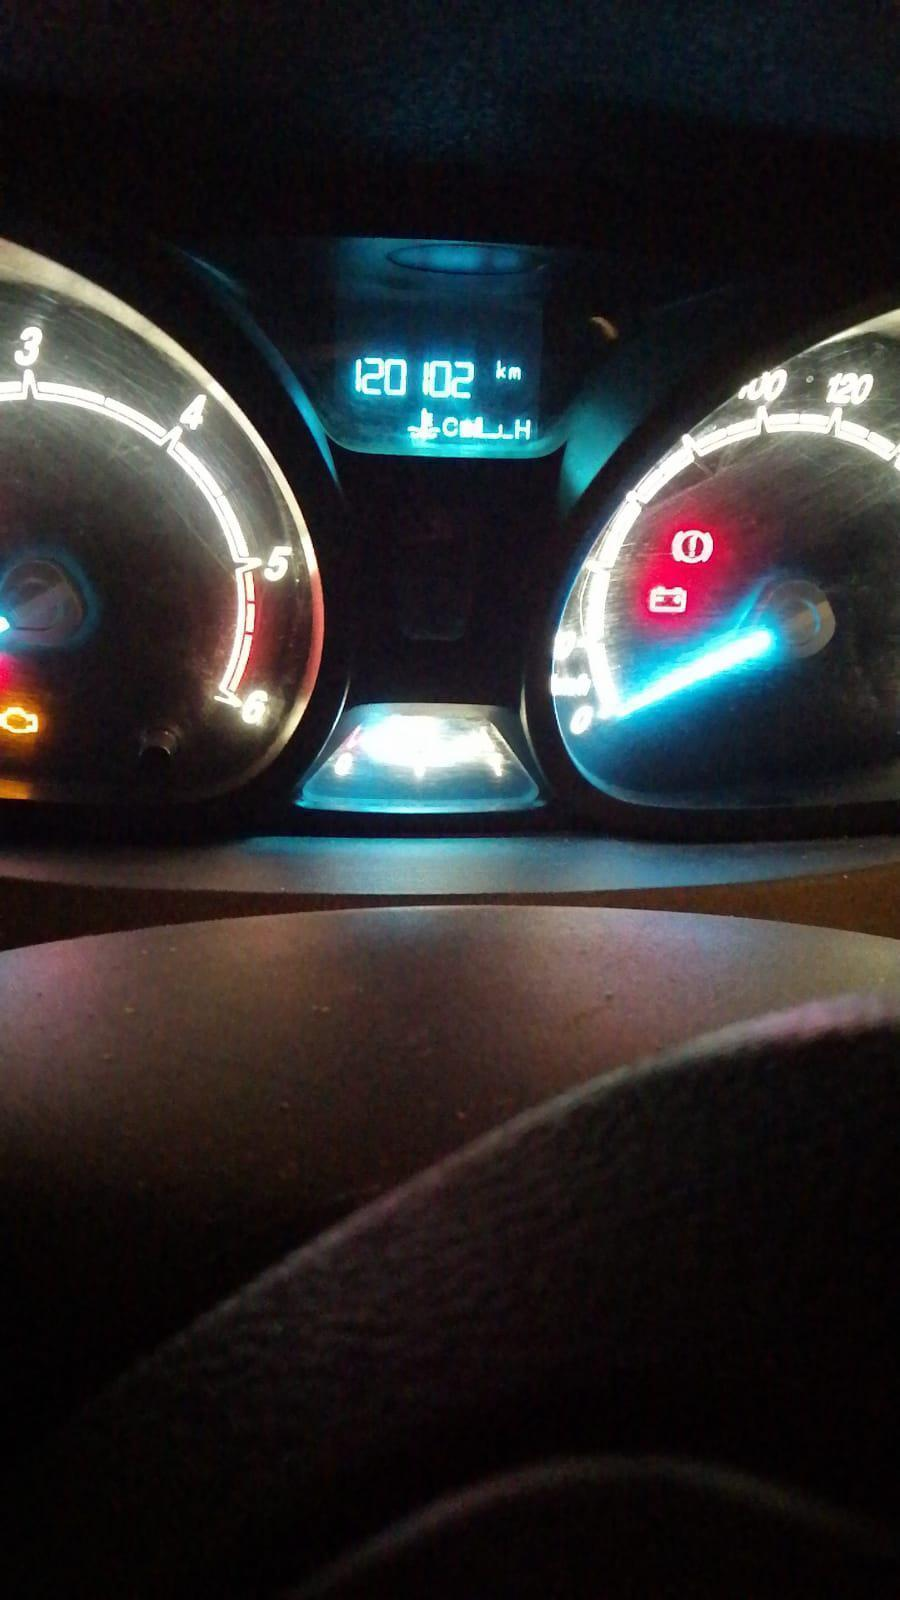0: (429, 359, 452, 399), (384, 357, 407, 396)
1: (354, 357, 362, 393), (422, 360, 427, 398)
2: (452, 360, 474, 399), (363, 355, 384, 395)
X: (514, 416, 531, 441), (442, 416, 458, 437), (496, 358, 505, 379), (508, 365, 520, 380)
odometer: (340, 329, 548, 455)
